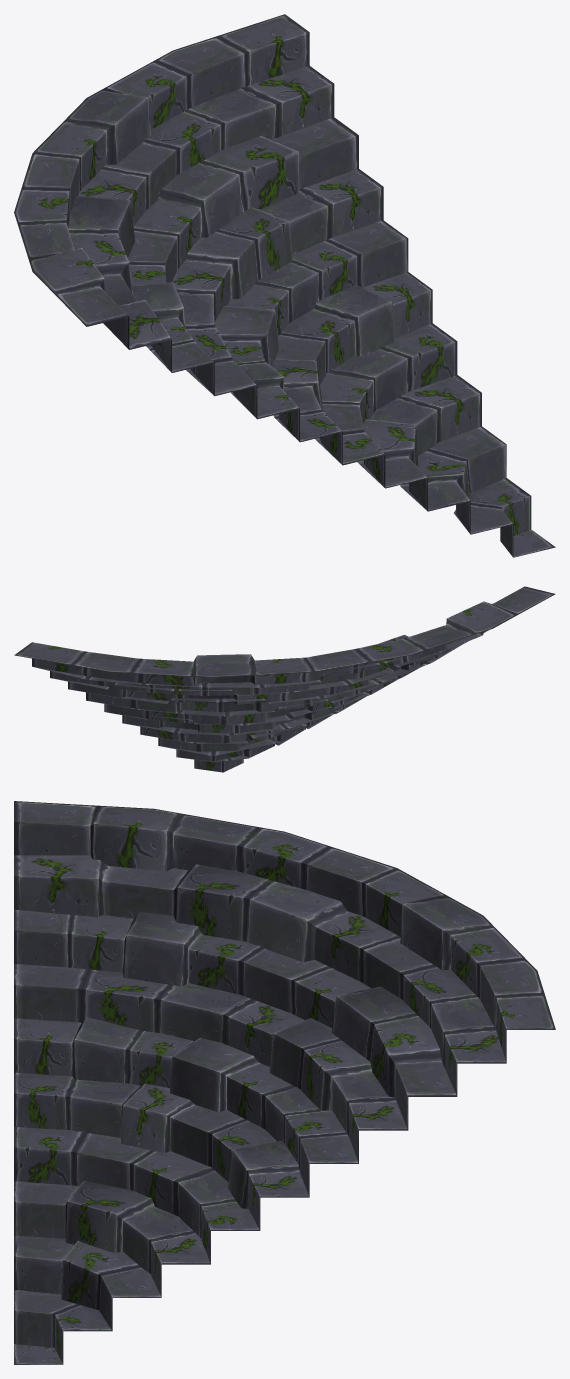
Rendered from MOD_Stairs_01_E_concave_2.fbx.
3 renders of one model, top to bottom at view 1: azimuth 30°, elevation 25°; view 2: azimuth 150°, elevation 25°; view 3: azimuth 270°, elevation 25°, orthographic. The views are drawn at different scales.
Visible parts, largest first — view 1: MOD_Stairs_01_E_concave_2; view 2: MOD_Stairs_01_E_concave_2; view 3: MOD_Stairs_01_E_concave_2.
Boxes of the visible parts, box(x1,y1,x2,y2) form: MOD_Stairs_01_E_concave_2: box(14, 14, 555, 557); MOD_Stairs_01_E_concave_2: box(14, 586, 555, 772); MOD_Stairs_01_E_concave_2: box(14, 801, 555, 1364).
Size of what is drawn, in the model's own units: 400 by 277 by 400.
